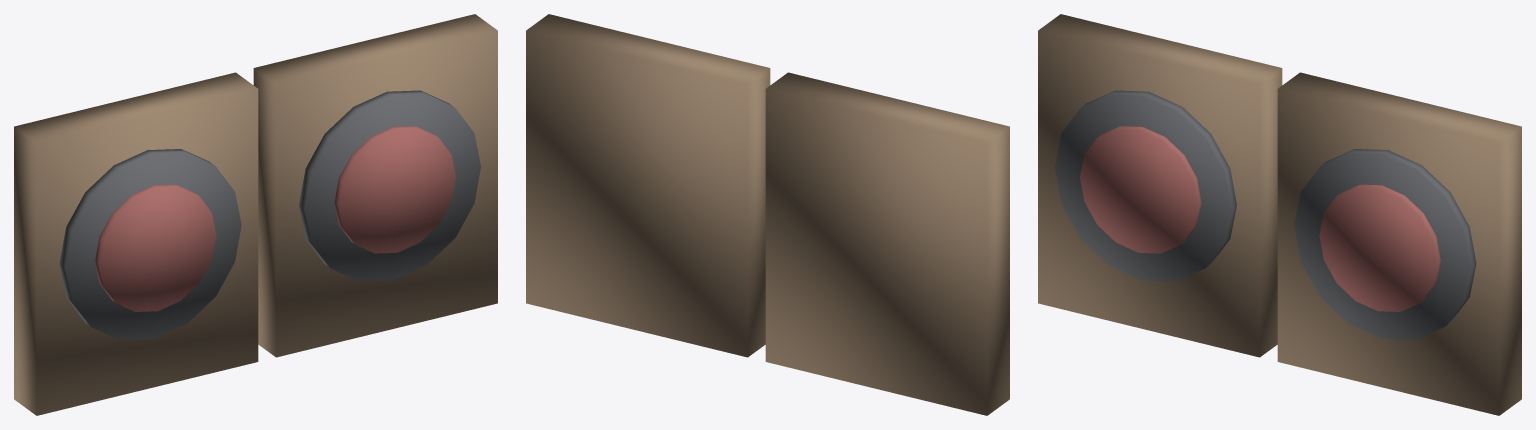
File: dartboard_cabinet__cluster.glb
The picture shows the model from 3 angles, left to right: view 1: azimuth 30°, elevation 25°; view 2: azimuth 150°, elevation 25°; view 3: azimuth 330°, elevation 25°; orthographic projection.
Visible parts, largest first — view 1: world; view 2: world; view 3: world.
Boxes of the visible parts, x1,y1,x2,y2 form: world: [14, 14, 497, 415]; world: [526, 14, 1009, 415]; world: [1038, 14, 1521, 415].
Size of the model in its own units: 1.41 by 0.8 by 0.175.
